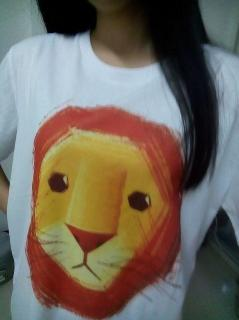short sleeve top: (0, 27, 239, 319)
